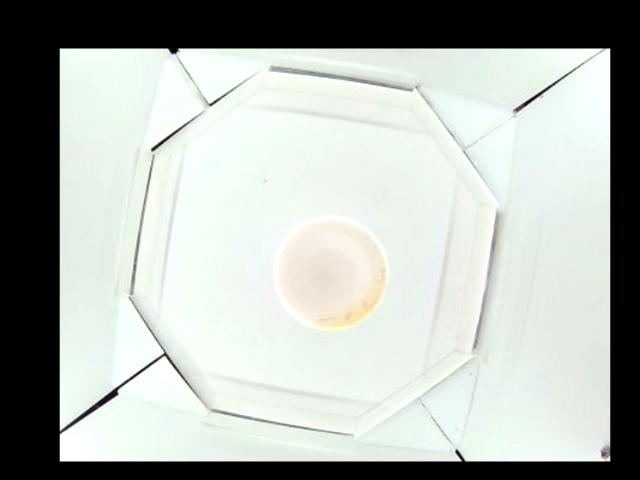Bottle: (272, 215, 387, 331)
